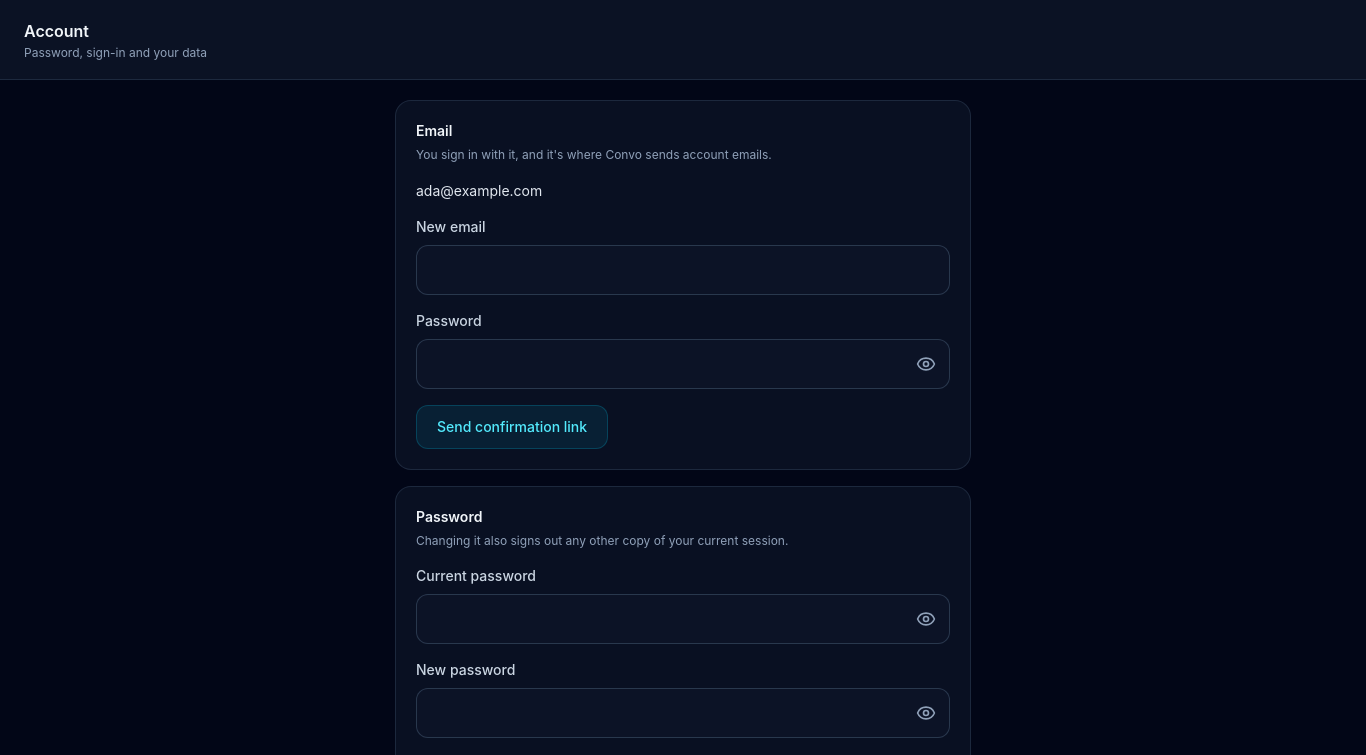
Test: changing the email › sends a link to the new address and shows the change waiting for it
In the field labelled "New email": (683, 270) [416,244,950,294], type " Ada.New@Example.com "
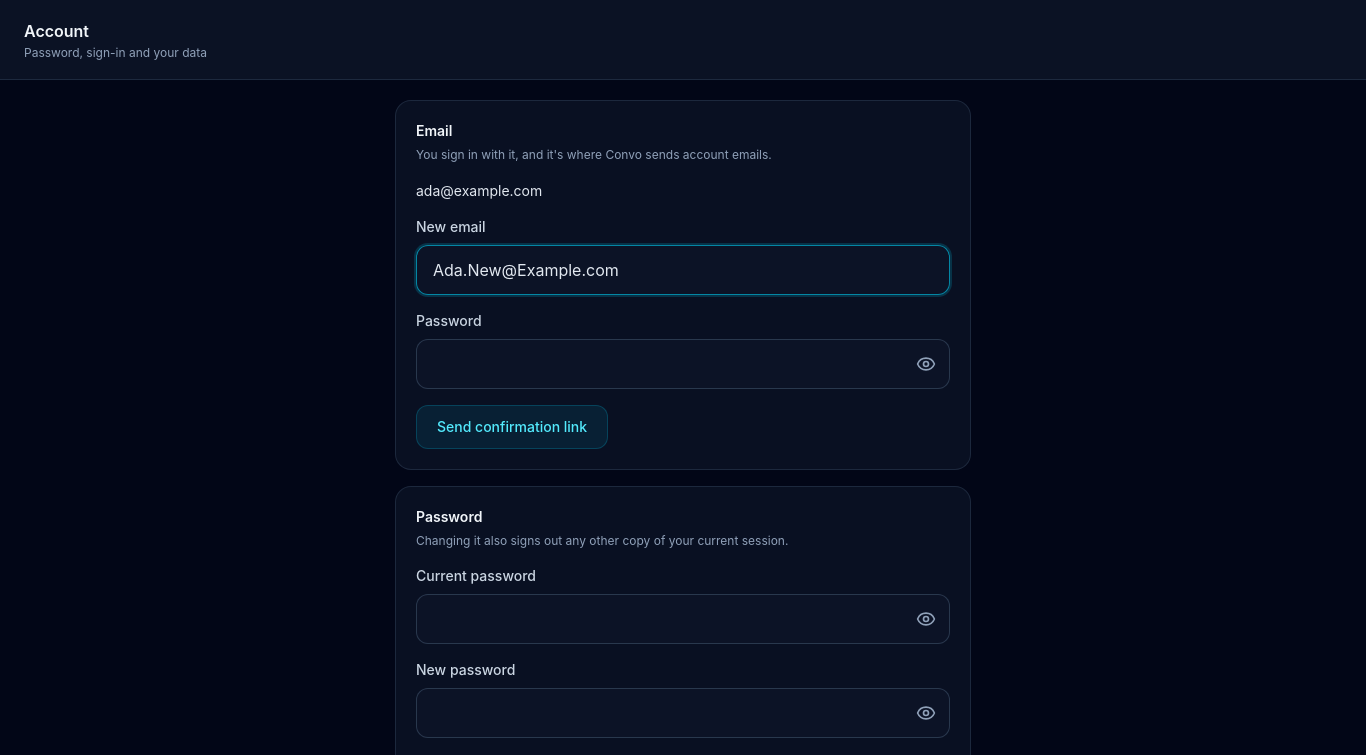
In the password field labelled "Password": (683, 364) [416,338,950,388], type "my-password"
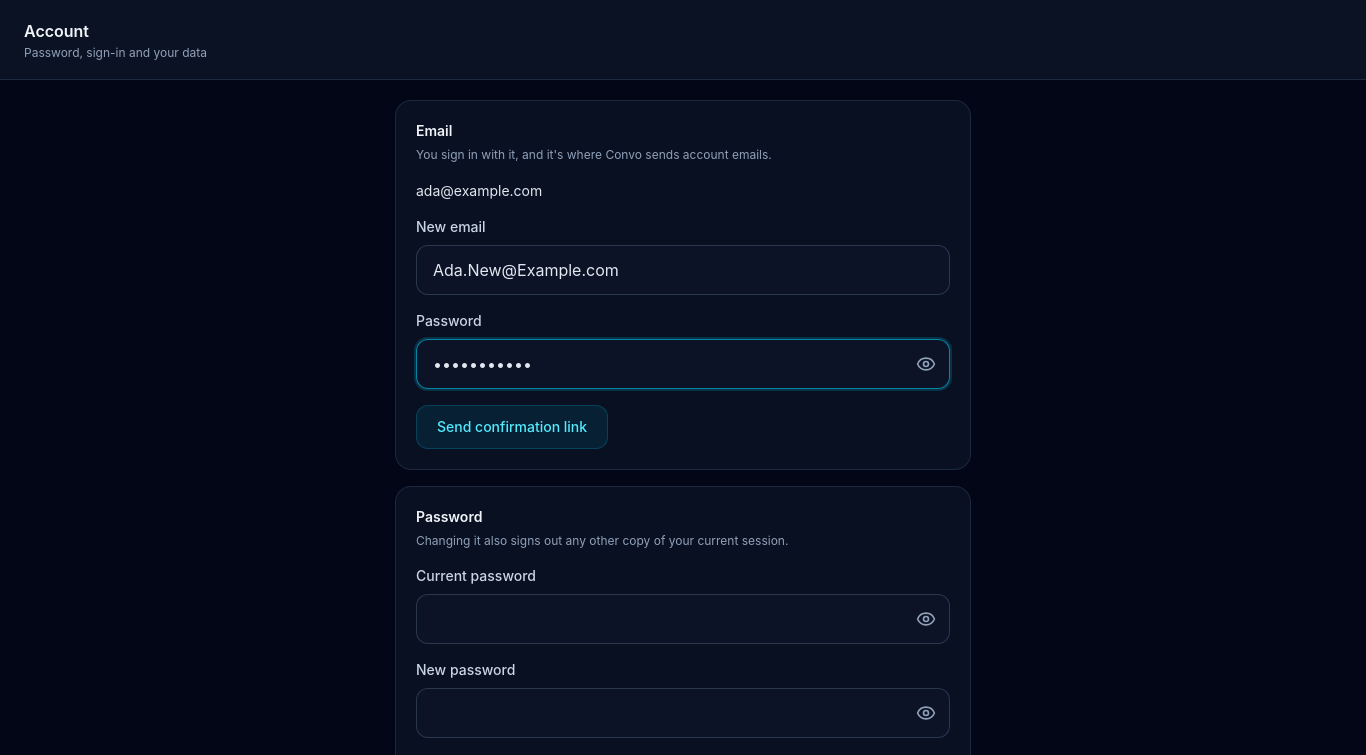
Click the button "Send confirmation link": (512, 426) [416,404,608,448]
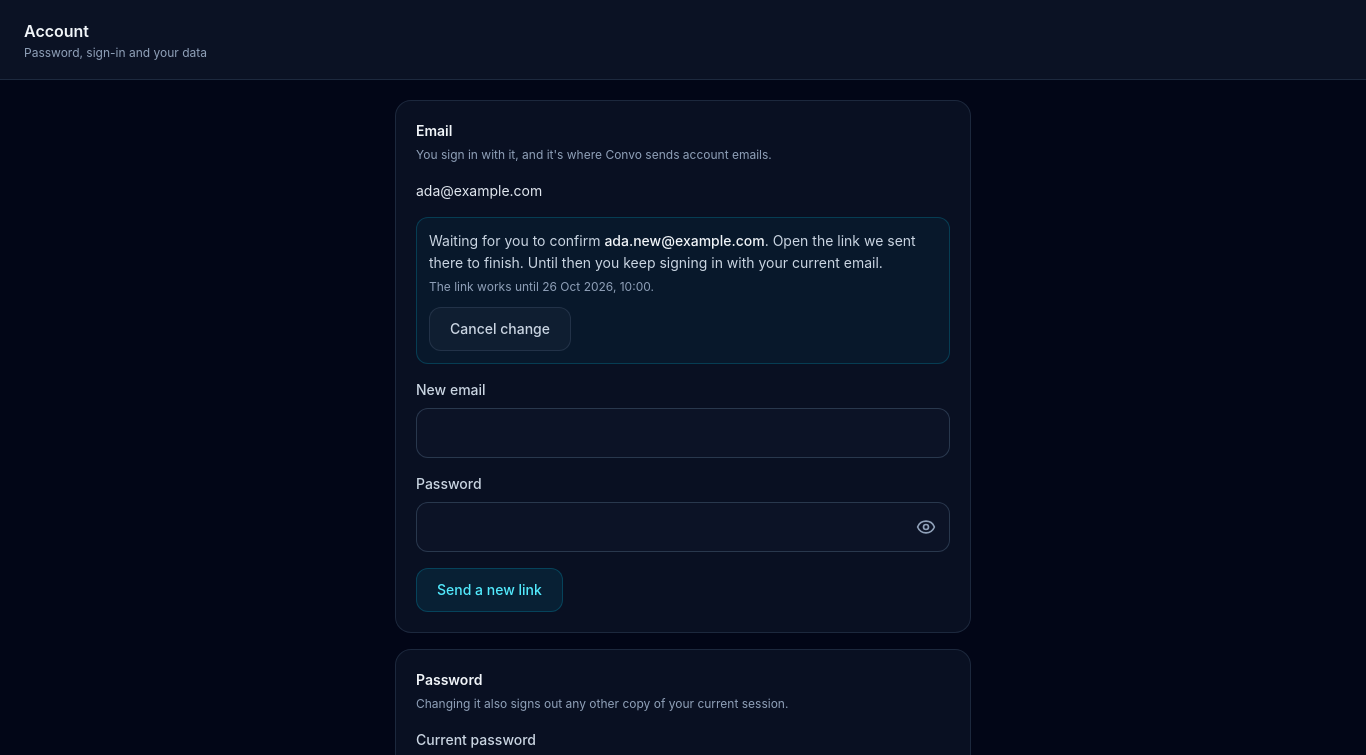
Expected: the text "Waiting for you to confirm" shows "ada.new@example.com", [604,232,765,248]
Expected: the field labelled "New email" is empty, [416,408,950,458]
Expected: the button "Send a new link" is shown, [416,568,563,612]
